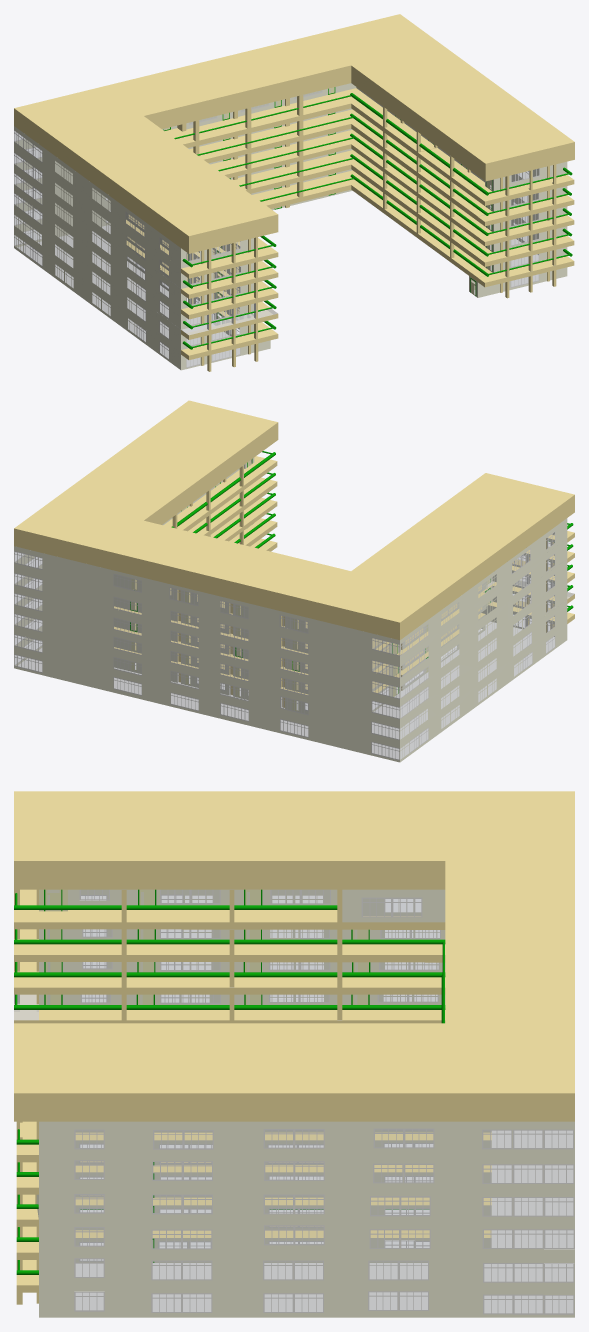
File: building-school.glb
3 views of the same model, one above another, from view 1: azimuth 30°, elevation 25°; view 2: azimuth 150°, elevation 25°; view 3: azimuth 270°, elevation 25° (orthographic). The views are drawn at different scales.
Parts seen in each view (by area): view 1: Node3, Node2, Node1793, Node509, Node1, Node1795, Node1340; view 2: Node3, Node2, Node1793, Node1795, Node1, Node509, Node1340; view 3: Node3, Node2, Node1793, Node1795, Node1, Node509, Node1340.
Boxes of the visible parts, x1=… form: Node3: x1=14, y1=14, x2=574, y2=371; Node2: x1=14, y1=83, x2=567, y2=370; Node1793: x1=14, y1=89, x2=538, y2=366; Node509: x1=163, y1=87, x2=572, y2=349; Node1: x1=17, y1=120, x2=555, y2=366; Node1795: x1=14, y1=90, x2=539, y2=367; Node1340: x1=164, y1=87, x2=491, y2=324; Node3: x1=14, y1=400, x2=574, y2=707; Node2: x1=14, y1=458, x2=567, y2=762; Node1793: x1=15, y1=532, x2=554, y2=758; Node1795: x1=14, y1=483, x2=555, y2=760; Node1: x1=18, y1=461, x2=574, y2=759; Node509: x1=130, y1=451, x2=573, y2=693; Node1340: x1=131, y1=459, x2=490, y2=711; Node3: x1=14, y1=791, x2=574, y2=1304; Node2: x1=36, y1=889, x2=574, y2=1317; Node1793: x1=47, y1=890, x2=573, y2=1312; Node1795: x1=74, y1=889, x2=574, y2=1314; Node1: x1=14, y1=889, x2=574, y2=1313; Node509: x1=14, y1=889, x2=445, y2=1274; Node1340: x1=39, y1=889, x2=368, y2=1262.
Bounding box in the file's own units: 3350 × 1179 × 2629.
